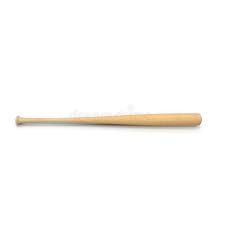bat: (14, 112, 203, 130)
